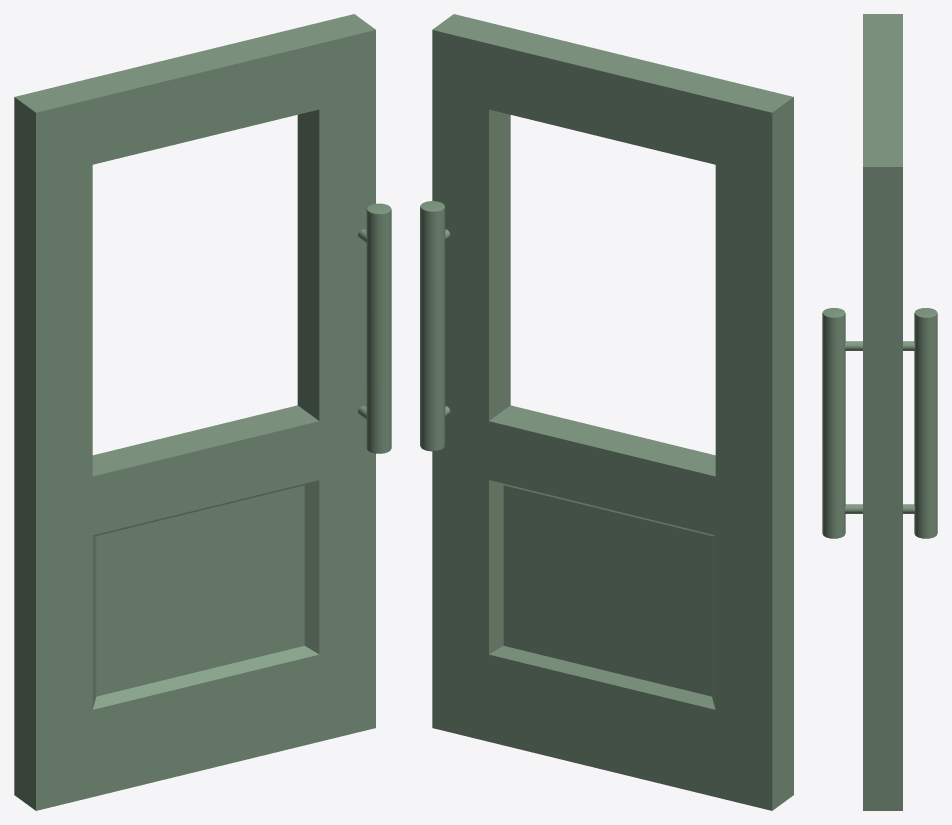
File: puerta dividida.fbx
The picture shows the model from 3 angles, left to right: view 1: azimuth 30°, elevation 25°; view 2: azimuth 150°, elevation 25°; view 3: azimuth 270°, elevation 25°; orthographic projection. The views are drawn at different scales.
Parts seen in each view (by area): view 1: Puerta1, Puerta2; view 2: Puerta1, Puerta2; view 3: Puerta1, Puerta2.
Boxes of the visible parts, bbox=[...] form: Puerta1: bbox=[14, 14, 375, 810]; Puerta2: bbox=[358, 203, 391, 453]; Puerta1: bbox=[432, 14, 793, 810]; Puerta2: bbox=[420, 201, 450, 451]; Puerta1: bbox=[863, 14, 902, 810]; Puerta2: bbox=[822, 308, 937, 538].
Bounding box in the file's own units: 94.35 × 185 × 30.03.
